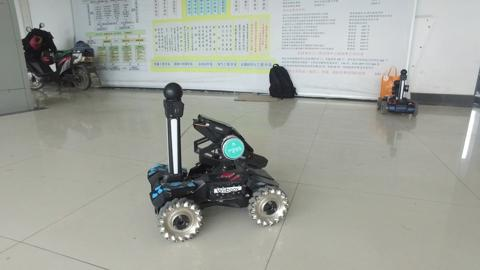bag: (267, 60, 300, 102), (377, 62, 403, 99)
chariot: (145, 80, 290, 242), (374, 67, 420, 118)
